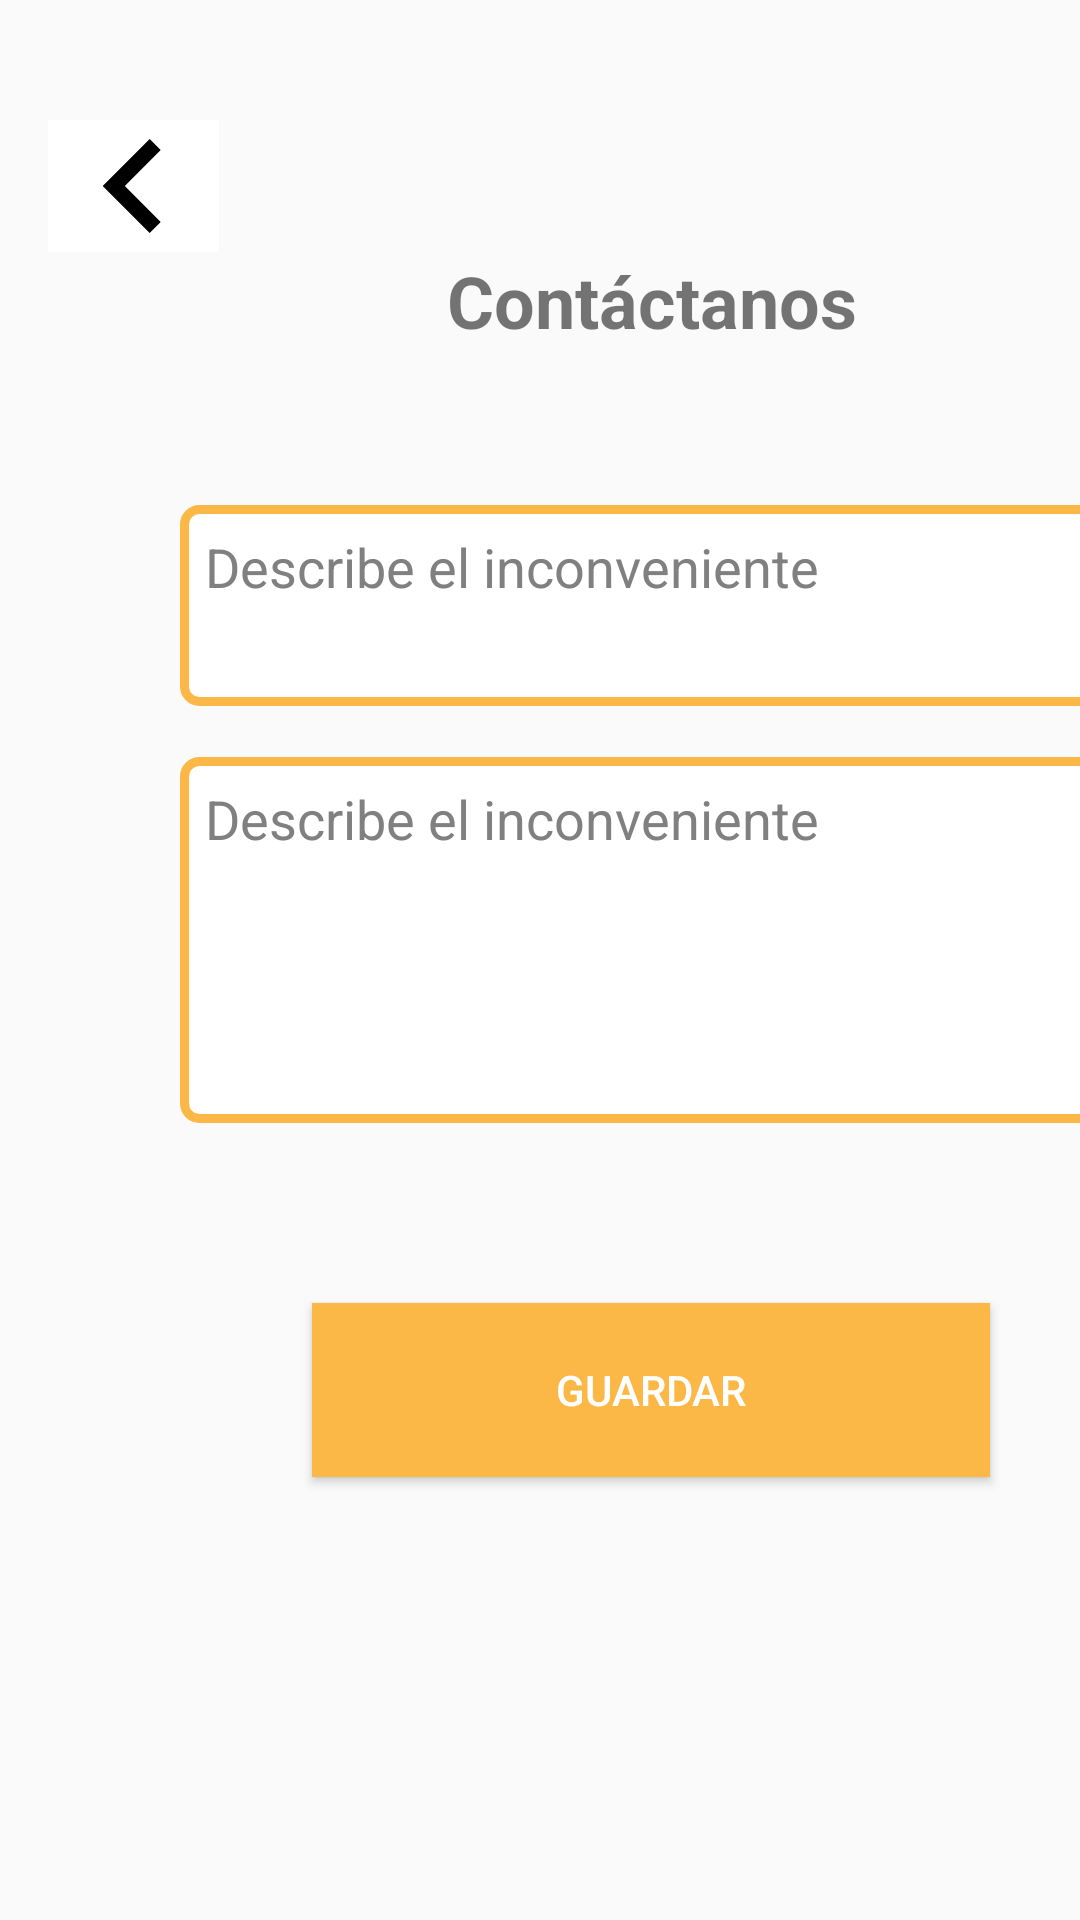

Where to tap for icons on this 1080 × 1920 app screen, as point (x, y):
leftkey: point (132, 186)
